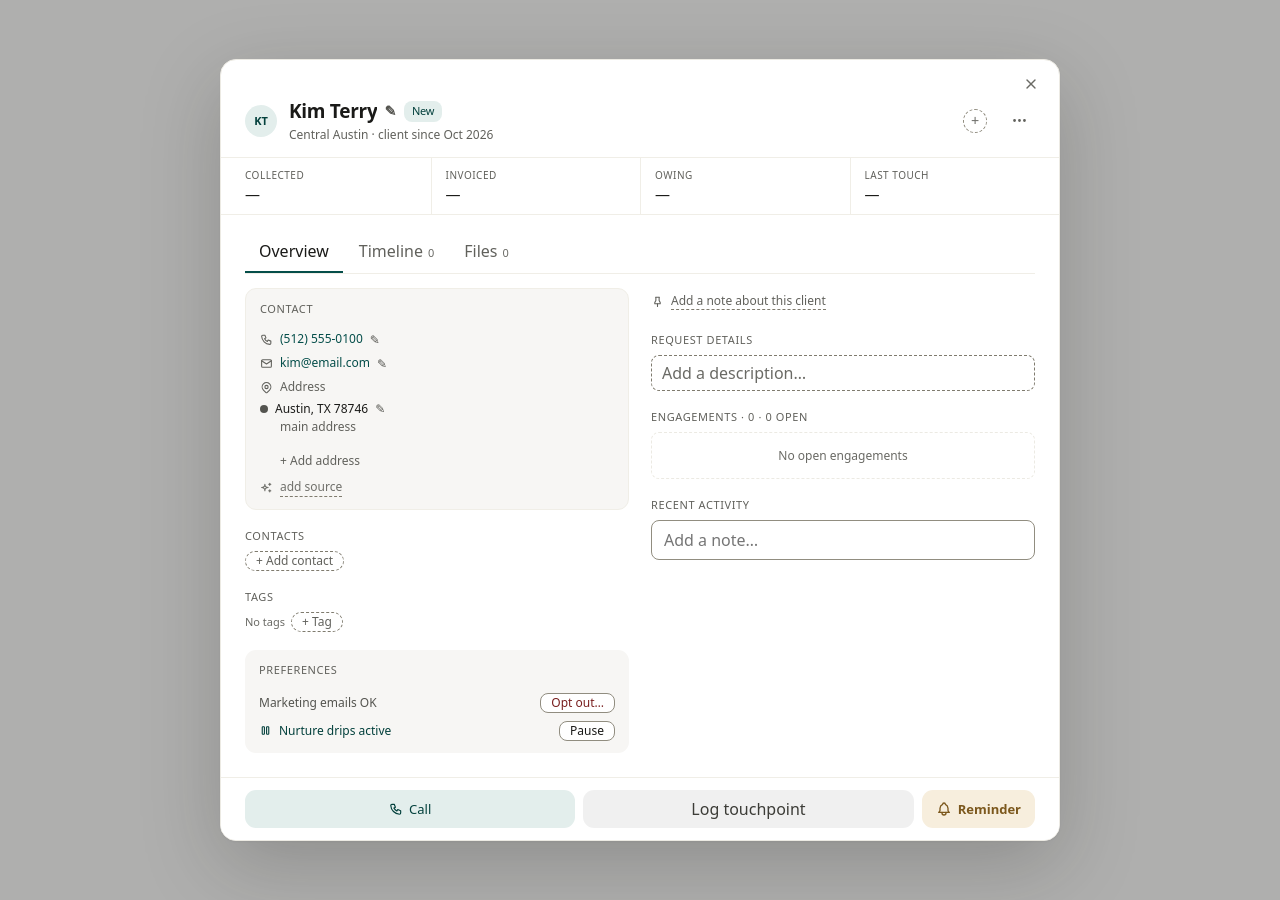
Test: the lead card ··· menu — "Transfer to another location" › corporate (admin) sees it on a lead that already has a location
Click the button named "More" at (1019, 121), box x1=1003 y1=105 x2=1035 y2=137
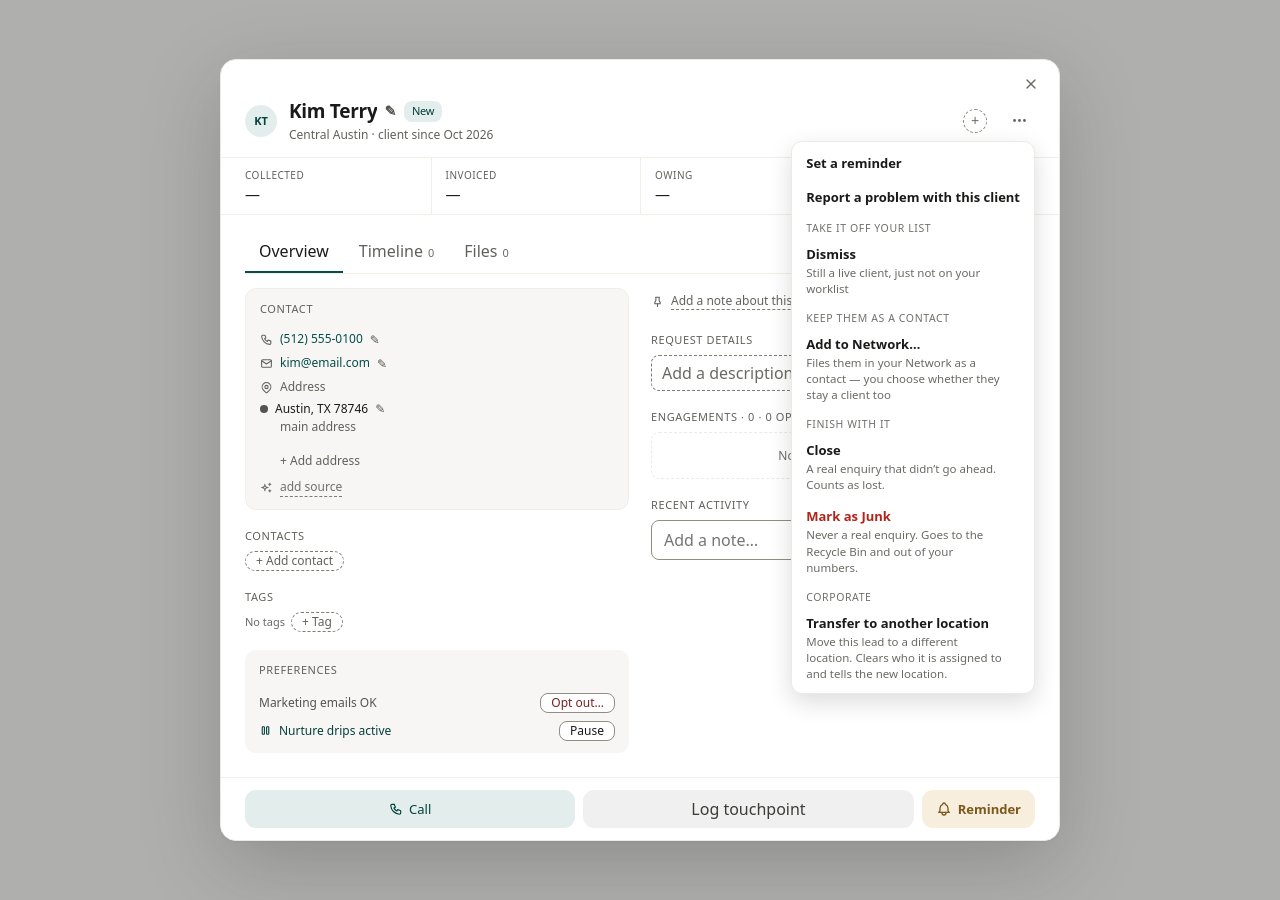
Expected: the text "Transfer to another location" is shown, x1=806 y1=614 x2=1020 y2=632
Expected: the text "Move this lead to a different location. Clears who it is assigned to and tells the new location." is shown, x1=806 y1=634 x2=1002 y2=681
Expected: the text "Corporate" is shown, x1=806 y1=590 x2=872 y2=604
